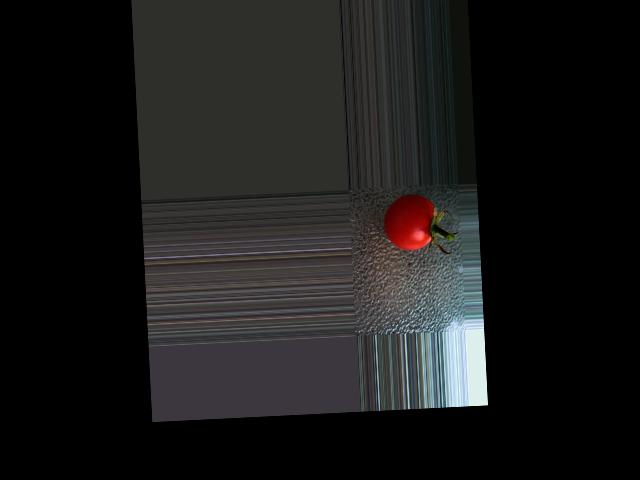tomato: (382, 194, 436, 252)
